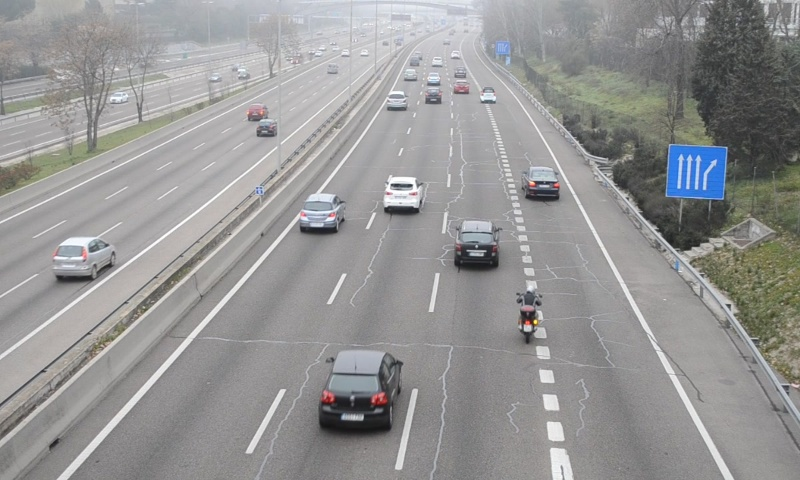car: (319, 350, 399, 432), (454, 220, 500, 267), (298, 193, 345, 228), (383, 176, 424, 209), (522, 166, 560, 197), (386, 90, 408, 111), (480, 86, 496, 104), (426, 86, 442, 104), (453, 79, 470, 95)
motorcycle: (515, 286, 543, 341)
